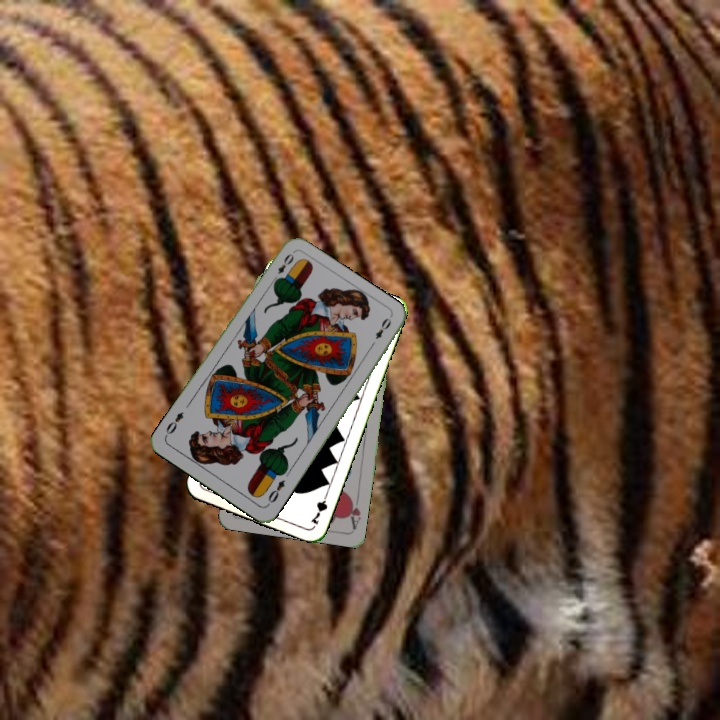EO: (269, 249, 297, 285), (264, 476, 288, 505)
G7: (306, 488, 331, 527)
HA: (343, 492, 363, 532)
